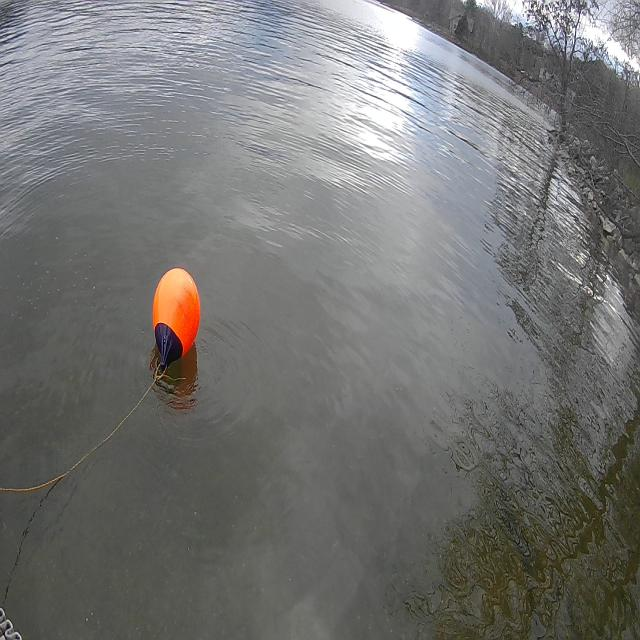Buoy: (150, 258, 204, 364)
